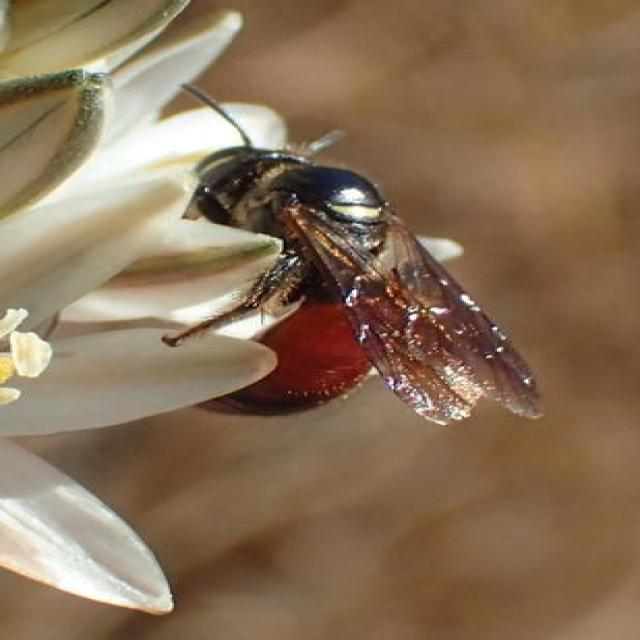Allodapula: (150, 102, 555, 456)
